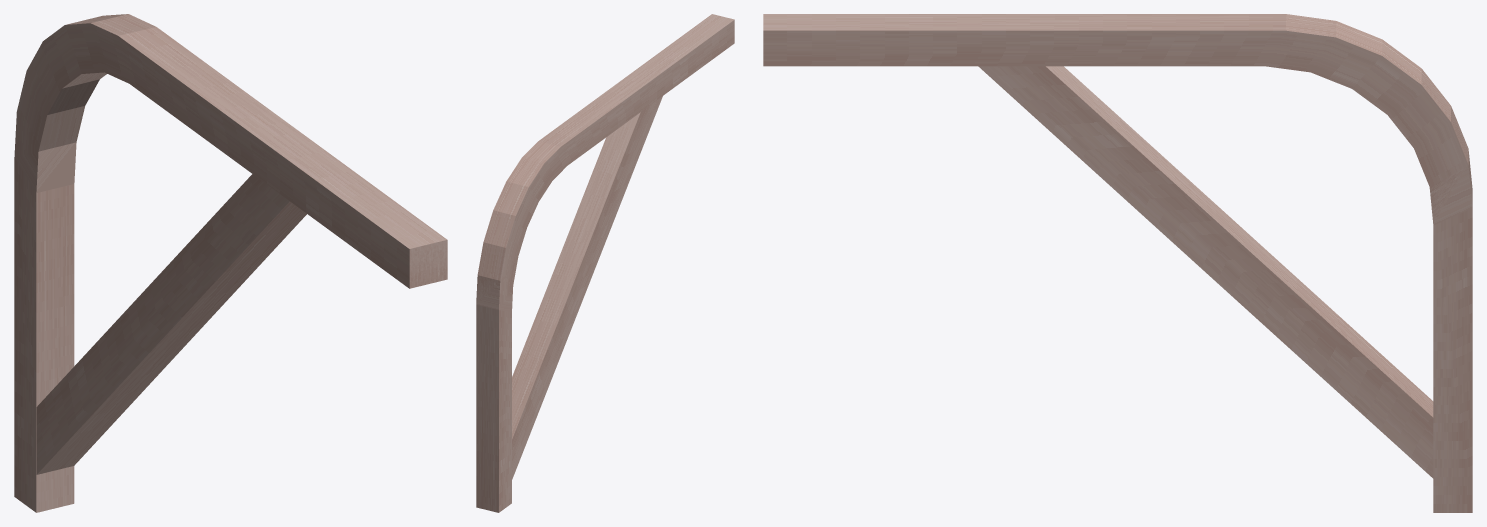
Rendered from LightPole_1.obj.
3 renders of one model, left to right at view 1: azimuth 30°, elevation 25°; view 2: azimuth 150°, elevation 25°; view 3: azimuth 270°, elevation 25°, orthographic. The views are drawn at different scales.
Bounding box in the file's own units: 0.125 × 1.69 × 2.25.
